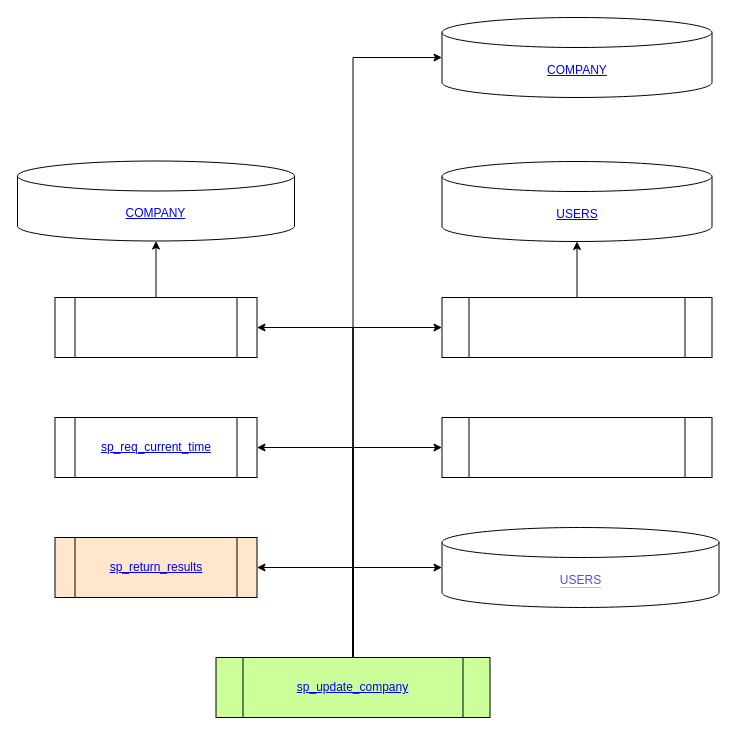
This 737x735 diagram has some shape labels left out. Each missing label, with the centre of its shape:
sp_req_company_exists: point (155, 327)
sp_req_super_permission_by_userid: point (576, 327)
sp_req_user_exists_by_id: point (576, 447)
